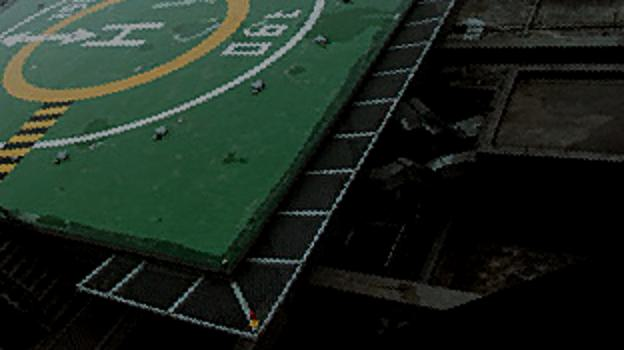Apron: (1, 1, 249, 64)
